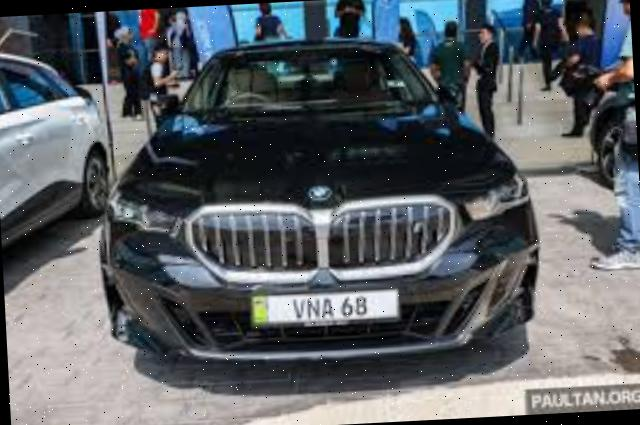License_Plate: (249, 289, 402, 332)
car: (89, 30, 544, 376)
